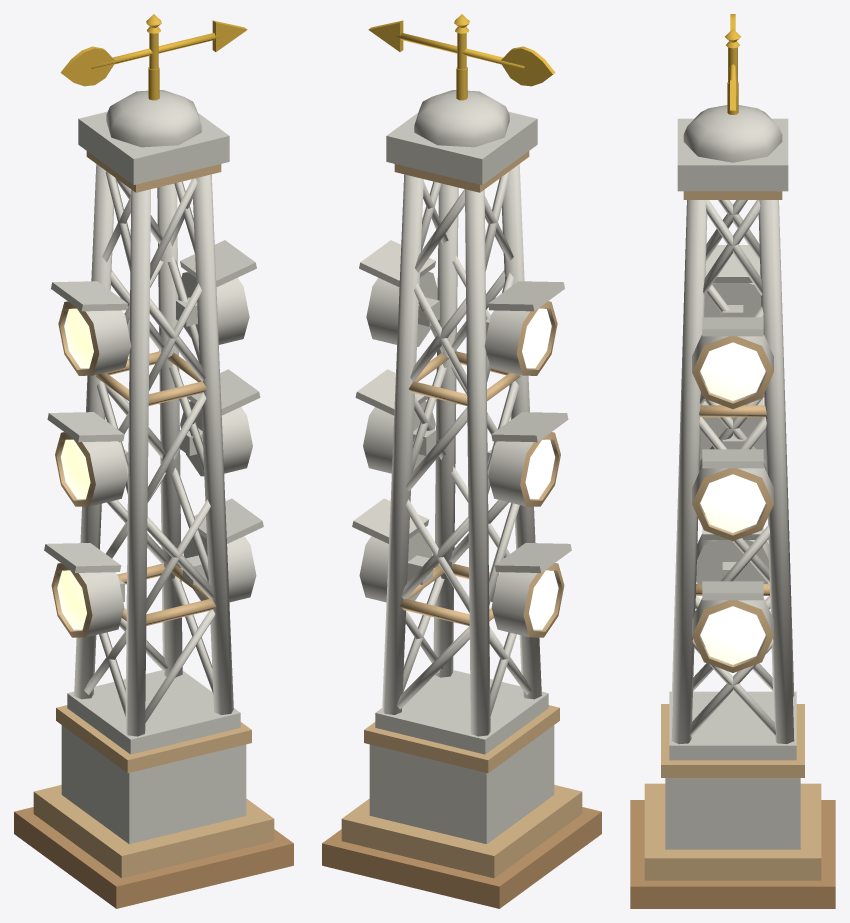
The model's file is signal-mast.lod1.glb.
3 renders of one model, left to right at view 1: azimuth 30°, elevation 25°; view 2: azimuth 150°, elevation 25°; view 3: azimuth 270°, elevation 25°, orthographic.
Parts seen in each view (by area): view 1: signal-mast_lod1; view 2: signal-mast_lod1; view 3: signal-mast_lod1.
Part boxes in pixels (x1,y1,x2,y2): signal-mast_lod1: [14, 14, 293, 908]; signal-mast_lod1: [322, 14, 601, 908]; signal-mast_lod1: [630, 14, 835, 908].
Size of the model in its own units: 1.07 by 4.5 by 1.
